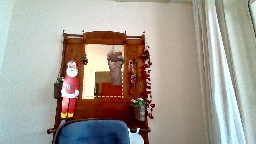Pugno: (105, 50, 124, 70)
